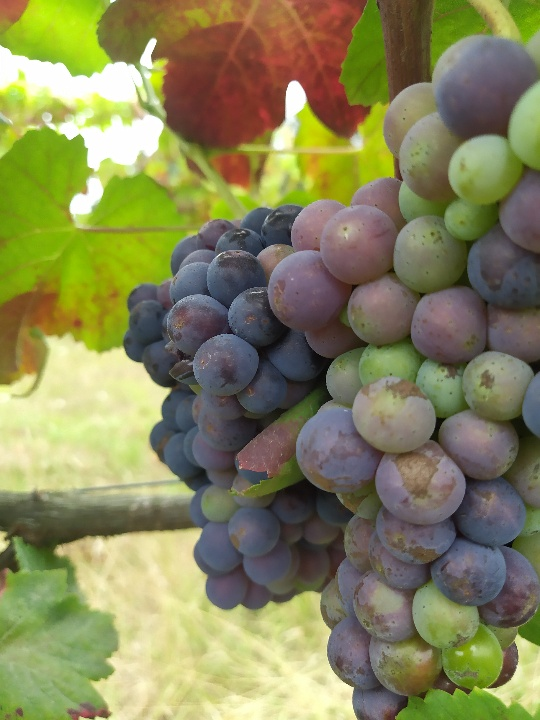grape: (262, 35, 540, 720), (121, 205, 349, 617)
